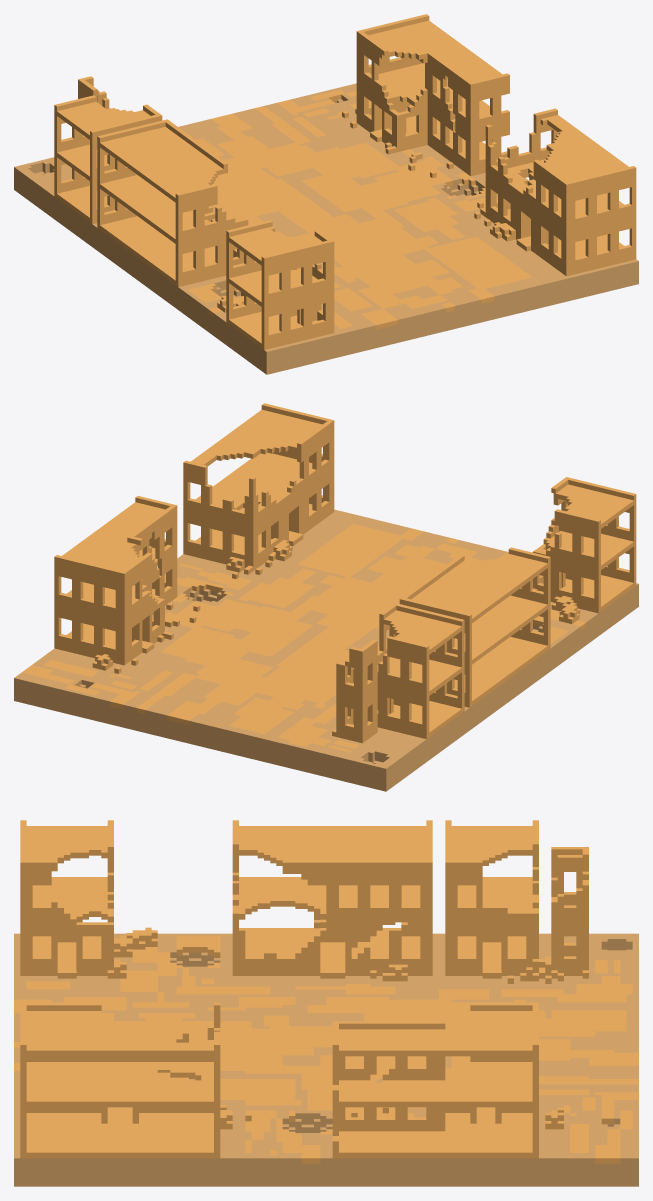
The model's file is map04.obj.
The picture shows the model from 3 angles, top to bottom: view 1: azimuth 30°, elevation 25°; view 2: azimuth 150°, elevation 25°; view 3: azimuth 270°, elevation 25°; orthographic projection. The views are drawn at different scales.
Size of the model in its own units: 8.5 by 2.5 by 10.
Materials: 1 (1 with a texture image).
